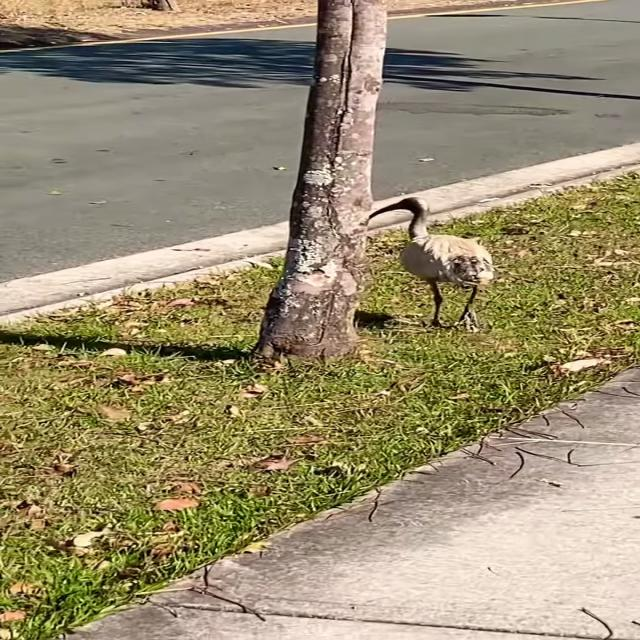Birds-Ibis: (361, 191, 502, 334)
